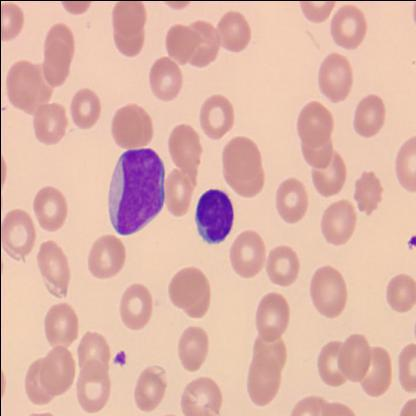Lymphocyte: (194, 189, 234, 245)
Promyelocyte: (106, 147, 163, 235)
